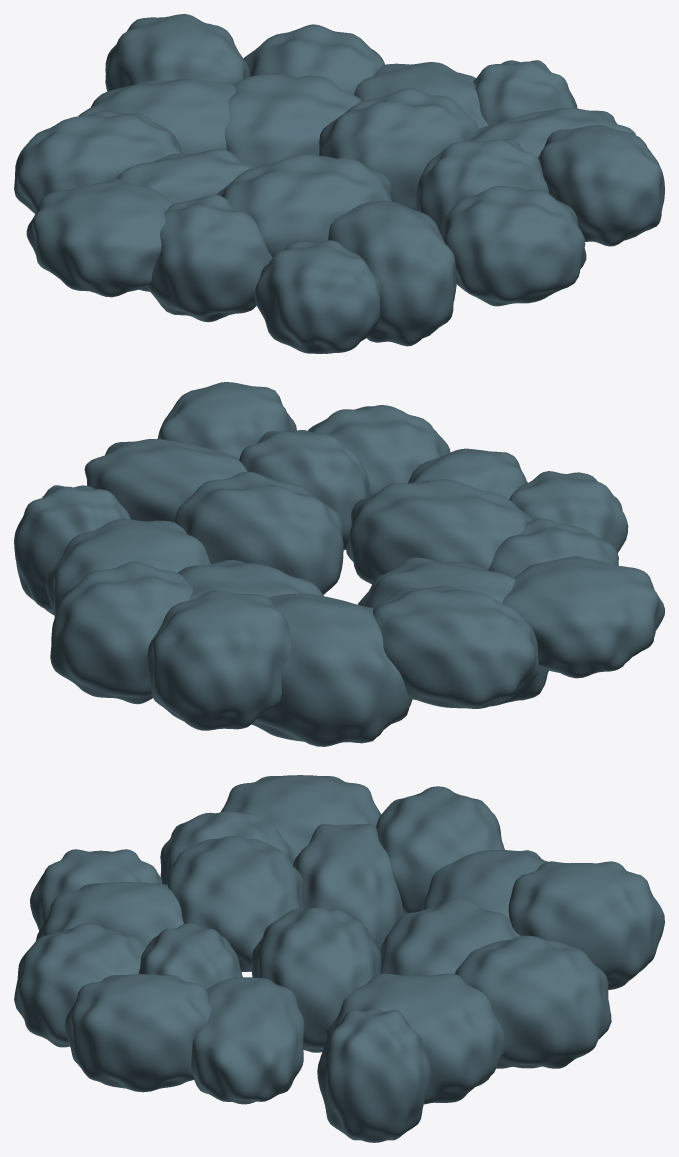
The picture shows the model from 3 angles, top to bottom: view 1: azimuth 30°, elevation 25°; view 2: azimuth 150°, elevation 25°; view 3: azimuth 270°, elevation 25°; orthographic projection. The views are drawn at different scales.
Parts seen in each view (by area): view 1: stone-11, stone-17, stone-6, stone-9, stone-14, stone-16, stone-1, stone-0, stone-12, stone-2, stone-15, stone-7 (+6 smaller); view 2: stone-7, stone-15, stone-12, stone-17, stone-10, stone-0, stone-1, stone-8, stone-3, stone-5, stone-16, stone-13 (+6 smaller); view 3: stone-10, stone-16, stone-15, stone-13, stone-8, stone-1, stone-5, stone-0, stone-12, stone-11, stone-4, stone-17 (+6 smaller).
Part boxes in pixels (x1,y1,x2,y2): stone-11: (438, 185, 586, 306); stone-17: (26, 178, 174, 297); stone-6: (328, 200, 456, 346); stone-9: (146, 194, 272, 322); stone-14: (254, 240, 380, 353); stone-16: (538, 125, 664, 246); stone-1: (217, 154, 392, 257); stone-0: (319, 88, 478, 210); stone-12: (14, 111, 181, 213); stone-2: (224, 72, 361, 167); stone-15: (105, 14, 250, 91); stone-7: (78, 78, 235, 153); stone-7: (251, 593, 412, 746); stone-15: (147, 590, 291, 730); stone-12: (373, 585, 538, 708); stone-17: (502, 556, 664, 678); stone-10: (50, 561, 192, 704); stone-0: (174, 472, 343, 594); stone-1: (346, 479, 532, 584); stone-8: (84, 439, 247, 521); stone-3: (239, 430, 369, 550); stone-5: (46, 518, 210, 616); stone-16: (157, 382, 296, 457); stone-13: (14, 485, 130, 614); stone-10: (455, 935, 611, 1068); stone-16: (64, 974, 211, 1092); stone-15: (508, 861, 664, 989); stone-13: (317, 1008, 430, 1142); stone-8: (191, 977, 304, 1104); stone-1: (162, 836, 304, 972); stone-5: (325, 973, 504, 1104); stone-0: (251, 907, 381, 1052); stone-12: (376, 786, 504, 913); stone-11: (14, 923, 145, 1047); stone-4: (293, 824, 404, 952); stone-17: (221, 775, 380, 860).
Bounding box in the file's own units: 2.28 × 0.5535 × 2.21.
